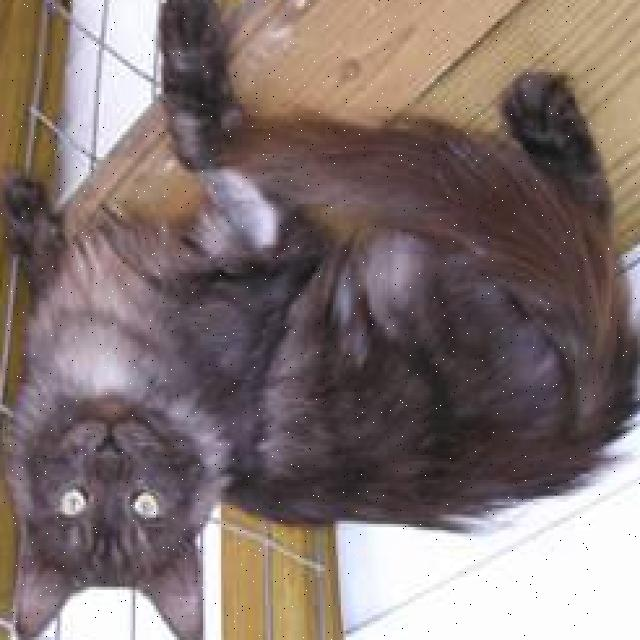Cat: (12, 356, 217, 635)
